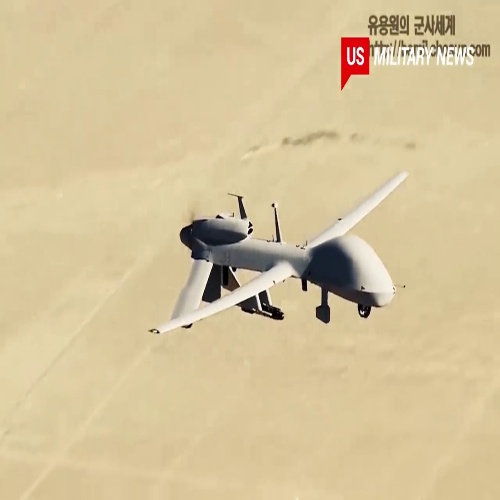uav: (151, 167, 413, 334)
